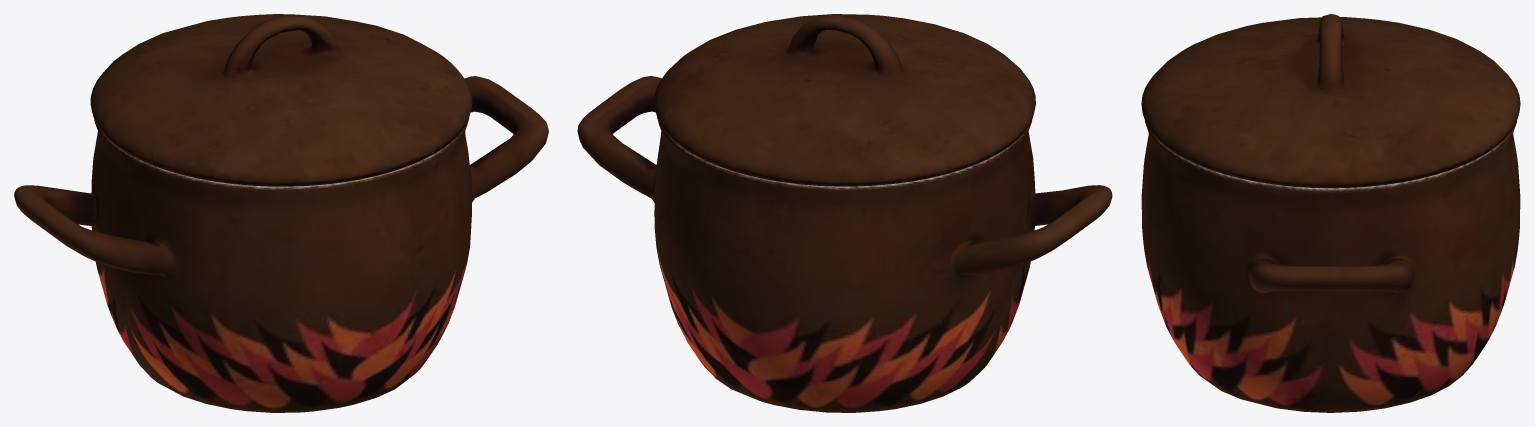
Rendered from pot_enamel_01.glb.
3 renders of one model, left to right at view 1: azimuth 30°, elevation 25°; view 2: azimuth 150°, elevation 25°; view 3: azimuth 270°, elevation 25°, orthographic.
Visible parts, largest first — view 1: pot_enamel_01_lid; view 2: pot_enamel_01_lid; view 3: pot_enamel_01_lid.
Boxes of the visible parts, <box> form: pot_enamel_01_lid: <box>14,14,548,412</box>; pot_enamel_01_lid: <box>577,14,1112,412</box>; pot_enamel_01_lid: <box>1141,14,1520,412</box>.
Bounding box in the file's own units: 0.2627 × 0.178 × 0.1805.
Materials: 1 (1 with a texture image).
